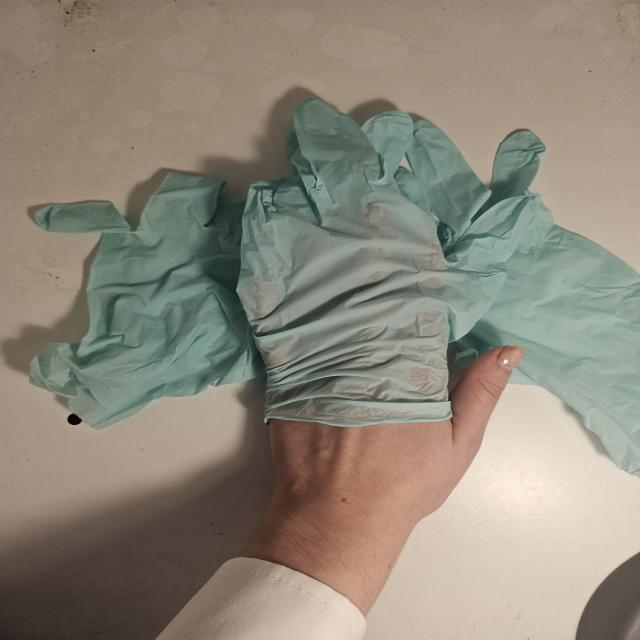glove_partial: (234, 98, 540, 514)
